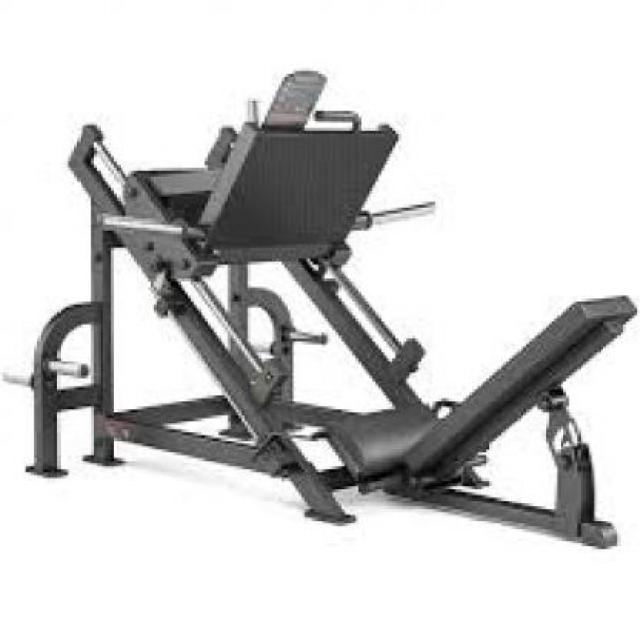leg press: (1, 68, 638, 555)
